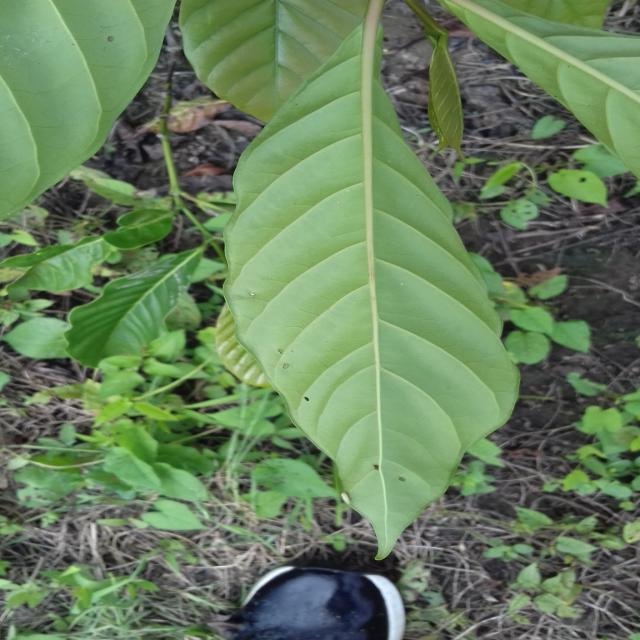Sanas: (222, 70, 583, 560)
